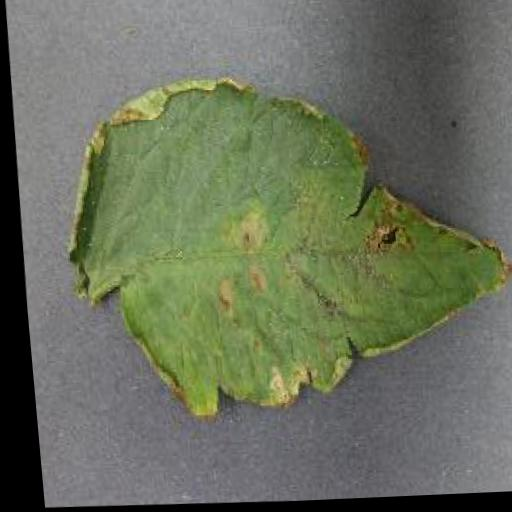Bacterial Spot: (50, 66, 512, 432)
